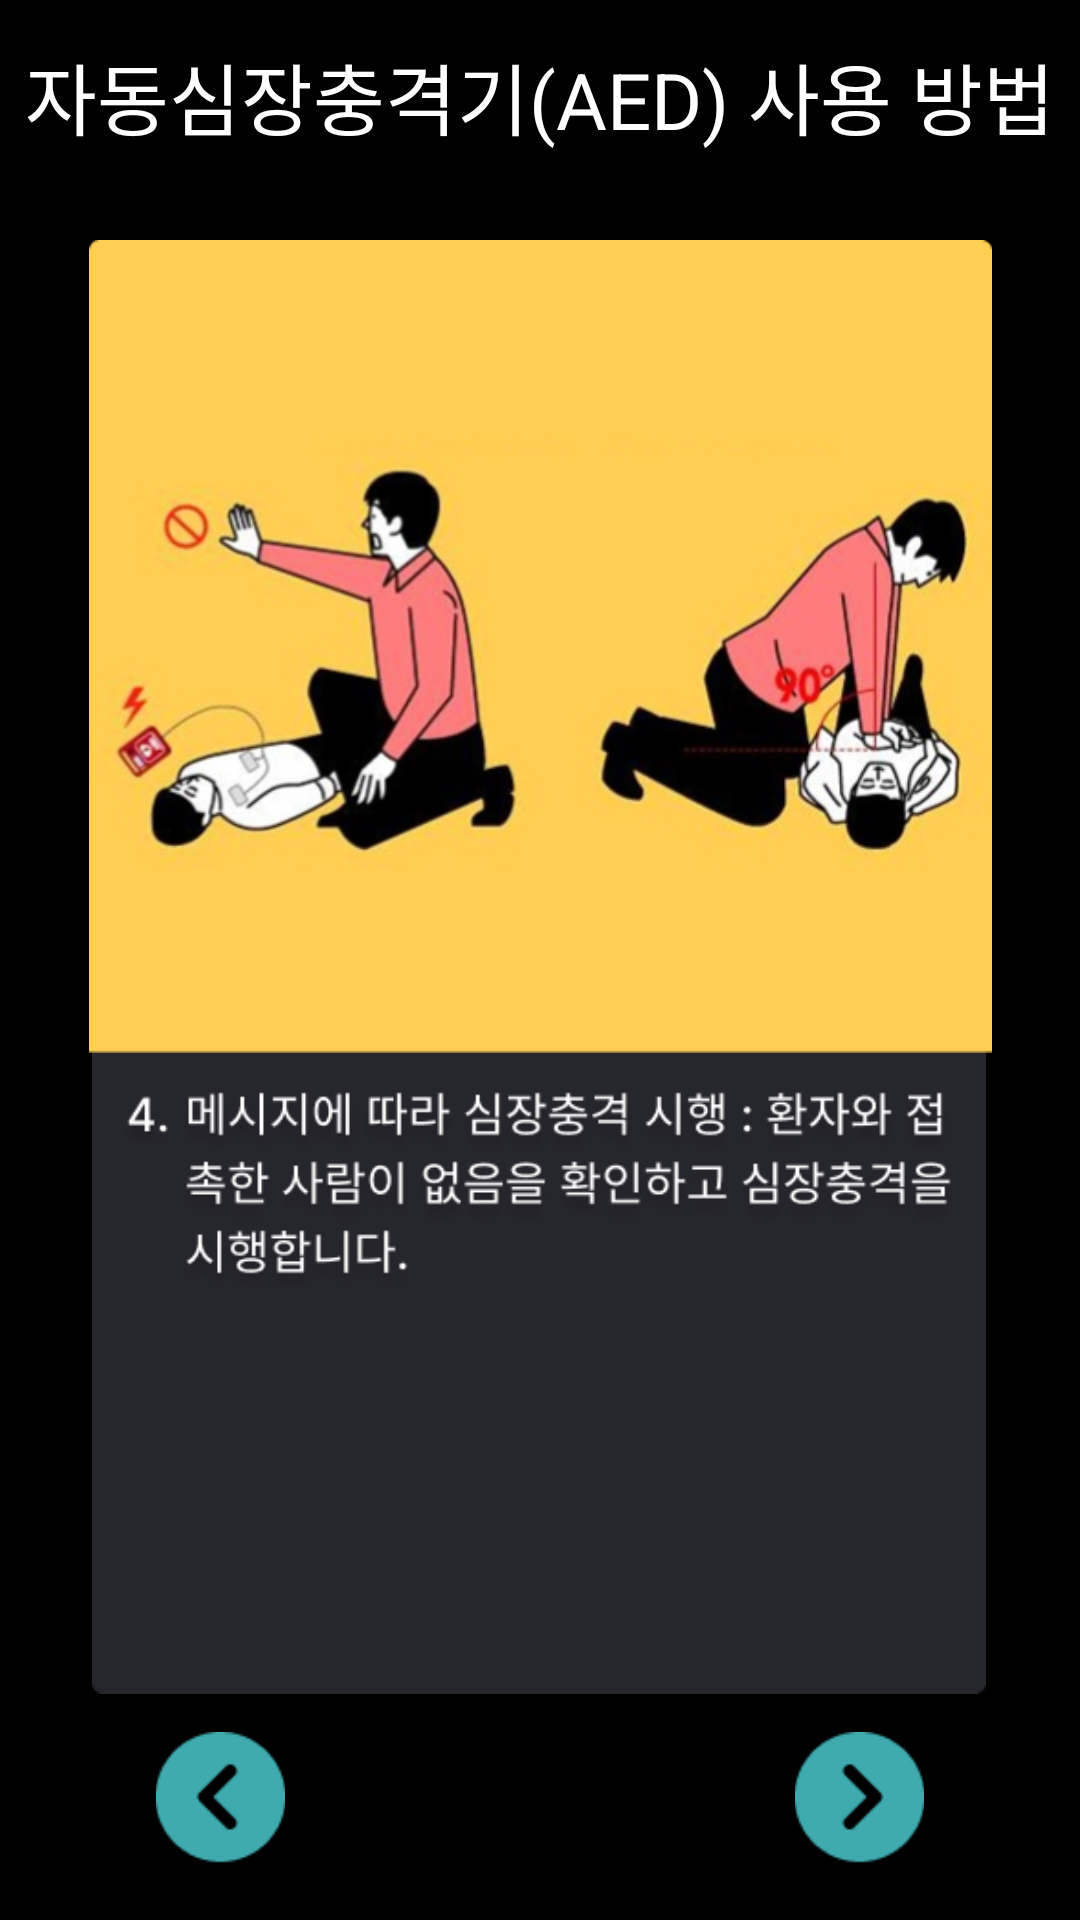

Where icons sit on this 1080×1920 app screen, as box(x1, y1, x2, y2):
edu next page: box(795, 1732, 924, 1863)
edu previous page: box(156, 1732, 285, 1863)
